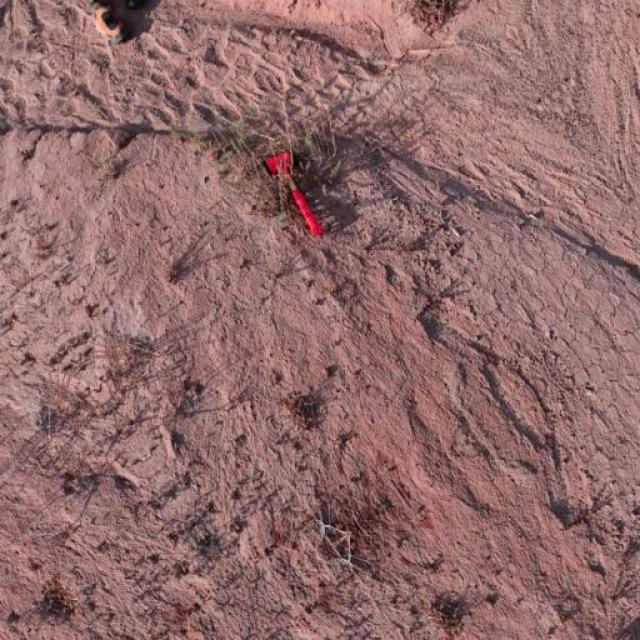mallet: (262, 148, 324, 238)
